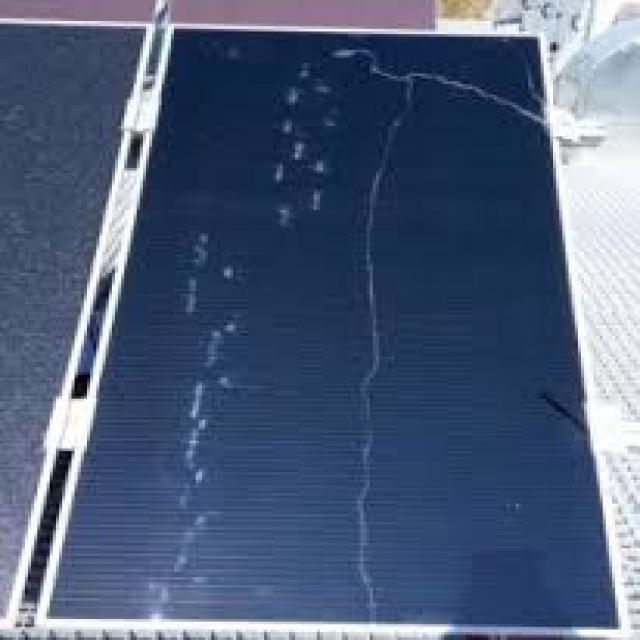faulty: (95, 33, 610, 612)
